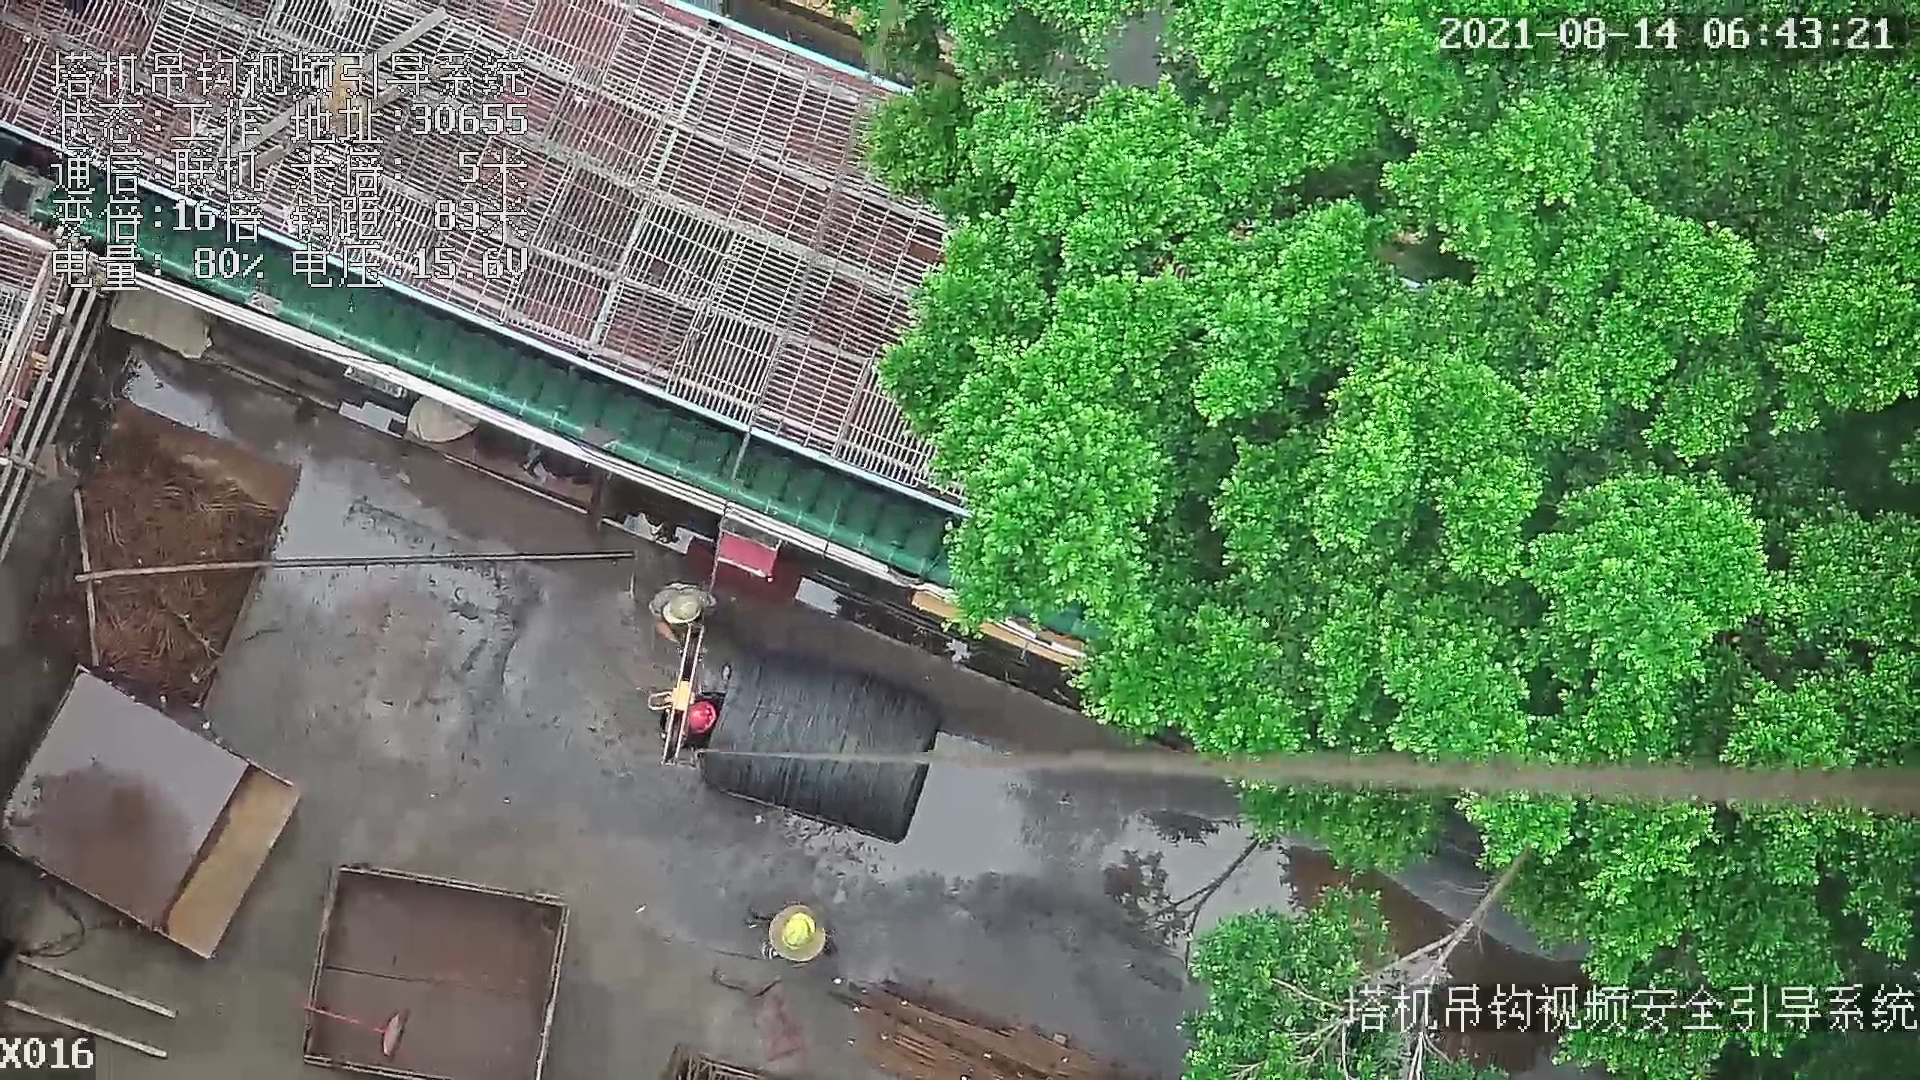helmet: (771, 906, 814, 958), (663, 594, 704, 630), (680, 697, 717, 737)
hook: (650, 614, 706, 768)
person: (735, 892, 829, 965), (654, 586, 733, 668), (670, 689, 740, 764)
